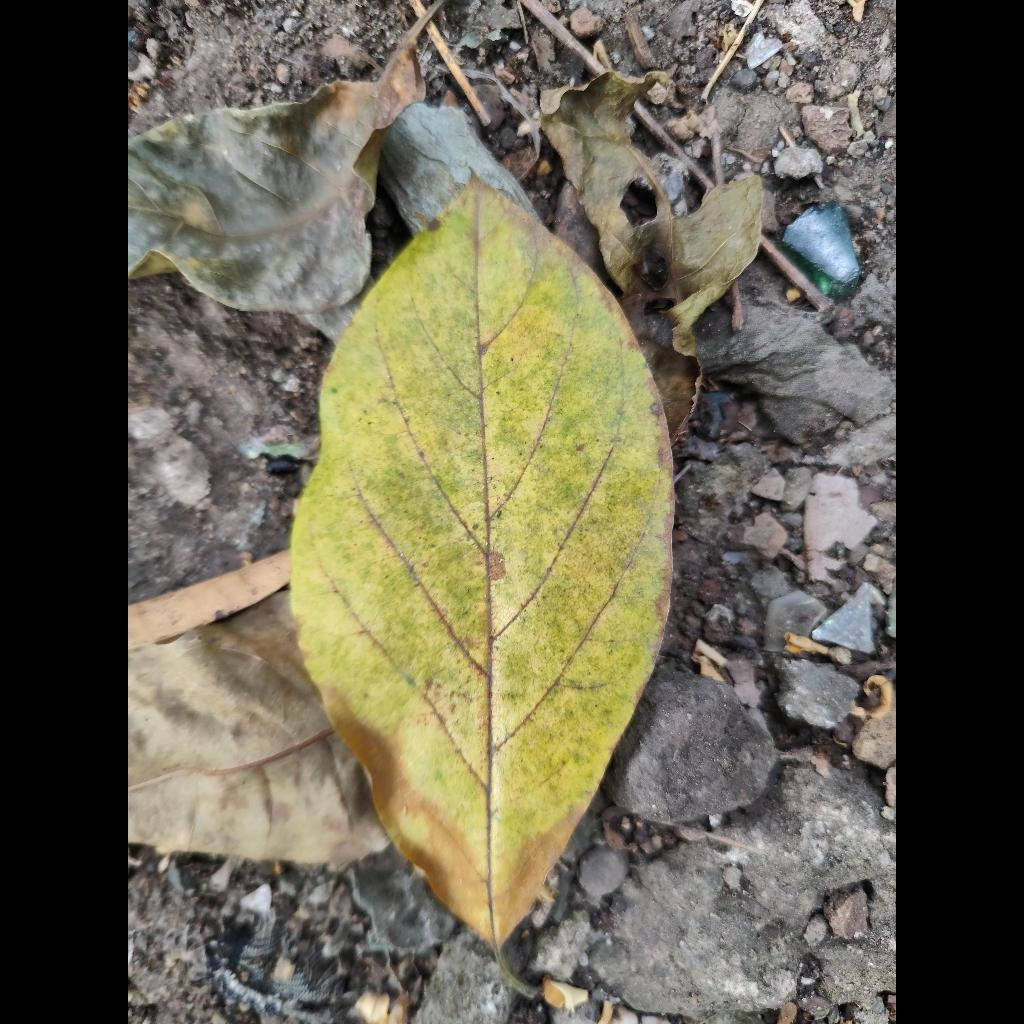nutrient_deficiency: (291, 178, 673, 946)
